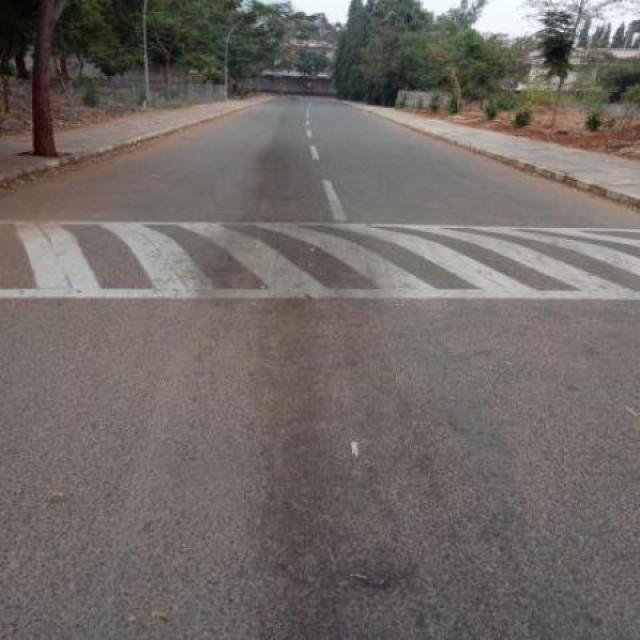Speed Bump: (0, 217, 639, 307)
